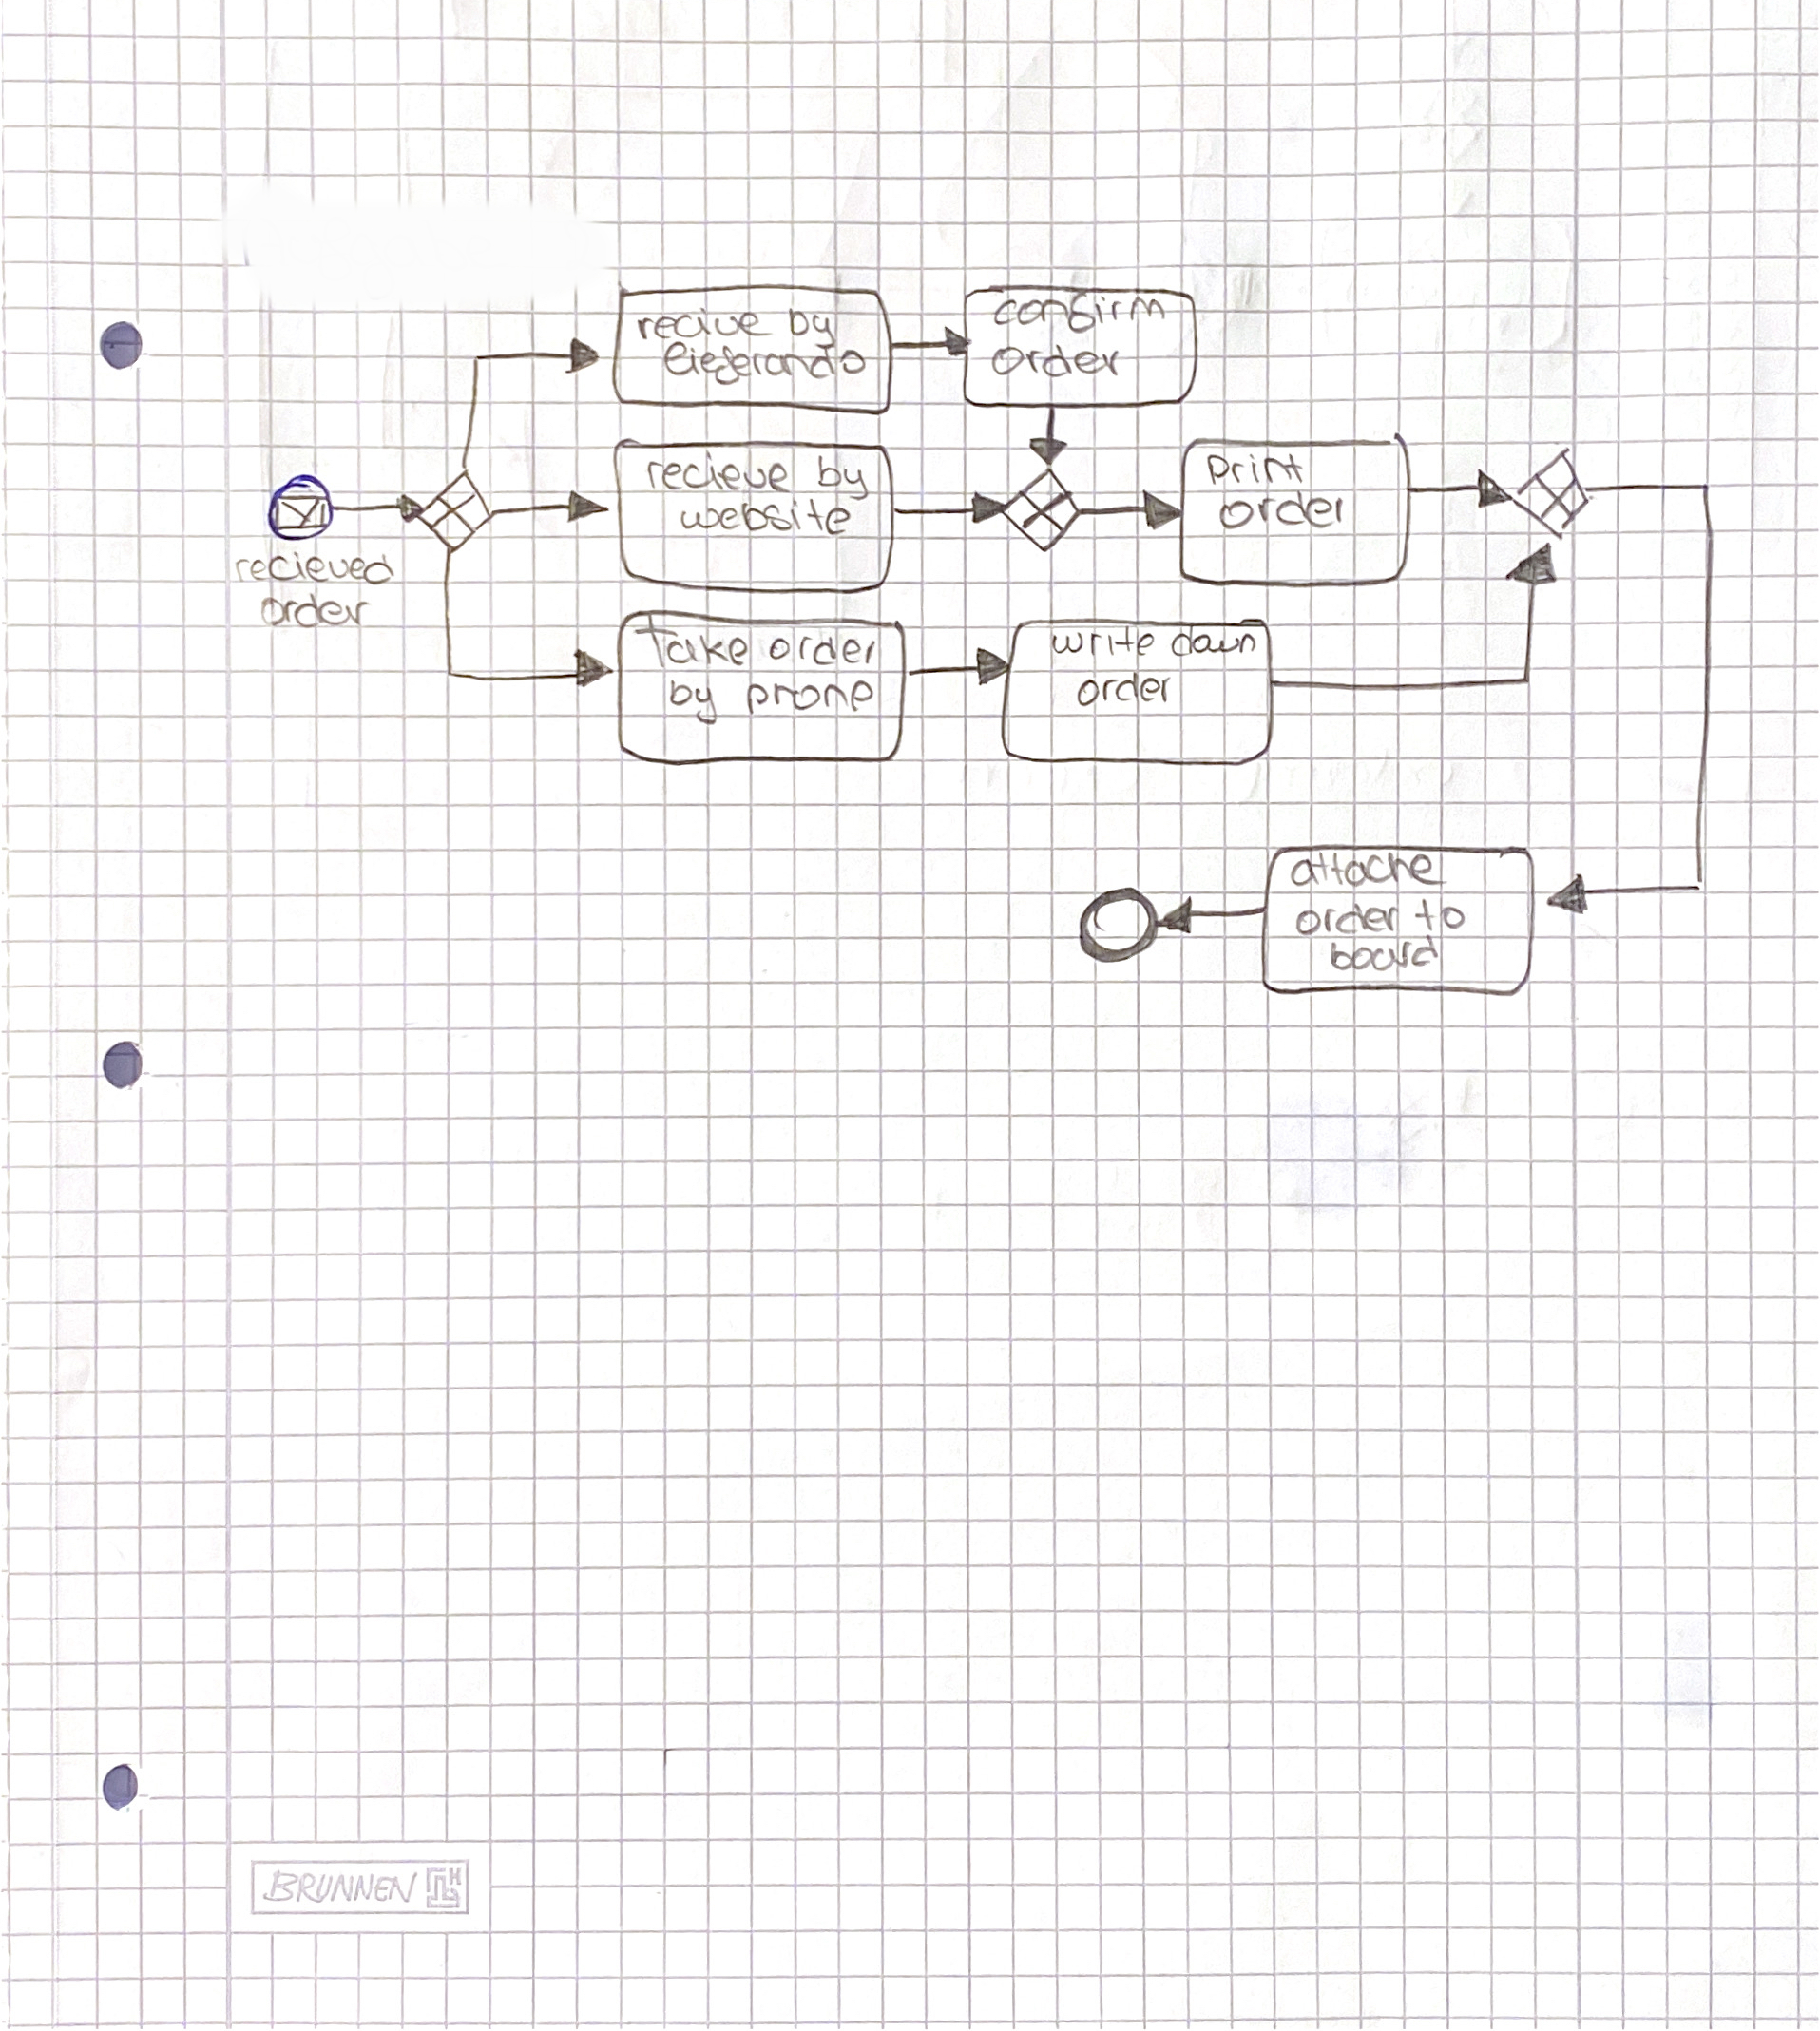Print: (1205, 450, 1307, 488)
attache: (1289, 847, 1449, 891)
board: (1325, 935, 1448, 975)
by: (668, 676, 726, 727), (815, 453, 871, 502), (784, 304, 838, 350)
confirm: (991, 290, 1172, 334)
down: (1170, 627, 1260, 661)
lieferando: (662, 343, 871, 387)
order: (989, 336, 1130, 379), (1217, 490, 1349, 534), (1293, 898, 1407, 940), (258, 590, 374, 629), (766, 632, 882, 668), (1073, 668, 1174, 708)
phone: (745, 678, 878, 719)
receive: (632, 307, 775, 344)
recieve: (641, 450, 801, 497)
recieved: (228, 552, 397, 589)
take: (634, 617, 755, 671)
to: (1411, 894, 1469, 935)
website: (678, 495, 857, 538)
write: (1049, 629, 1161, 659)
